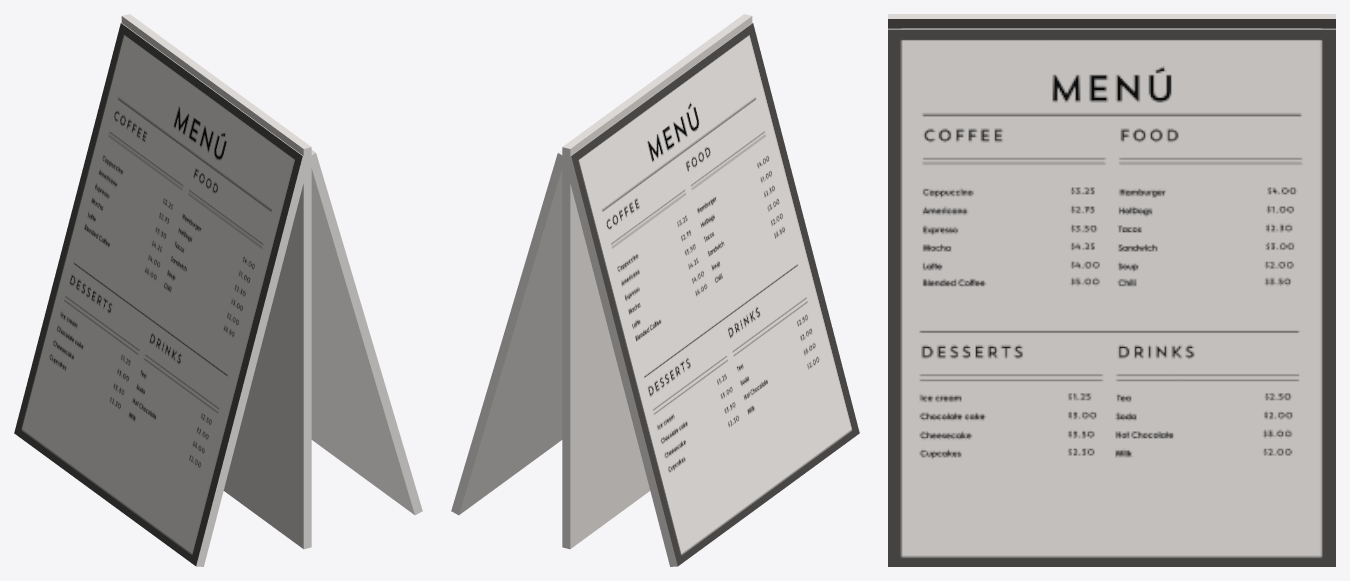
Rendered from Menu.dae.
The picture shows the model from 3 angles, left to right: view 1: azimuth 30°, elevation 25°; view 2: azimuth 150°, elevation 25°; view 3: azimuth 270°, elevation 25°; orthographic projection. The views are drawn at different scales.
Parts seen in each view (by area): view 1: Menu_D, Menu; view 2: Menu_D, Menu; view 3: Menu_D, Menu.
Part boxes in pixels (box(x1,y1,x2,y2)): Menu_D: box(14, 23, 422, 566); Menu: box(121, 14, 311, 549); Menu_D: box(451, 23, 859, 566); Menu: box(562, 14, 752, 549); Menu_D: box(888, 28, 1335, 566); Menu: box(888, 14, 1335, 28).
Bounding box in the file's own units: 0.2438 × 0.3389 × 0.4113.
1 material, 1 textured.
